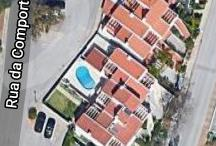pool: (75, 65, 97, 90)
